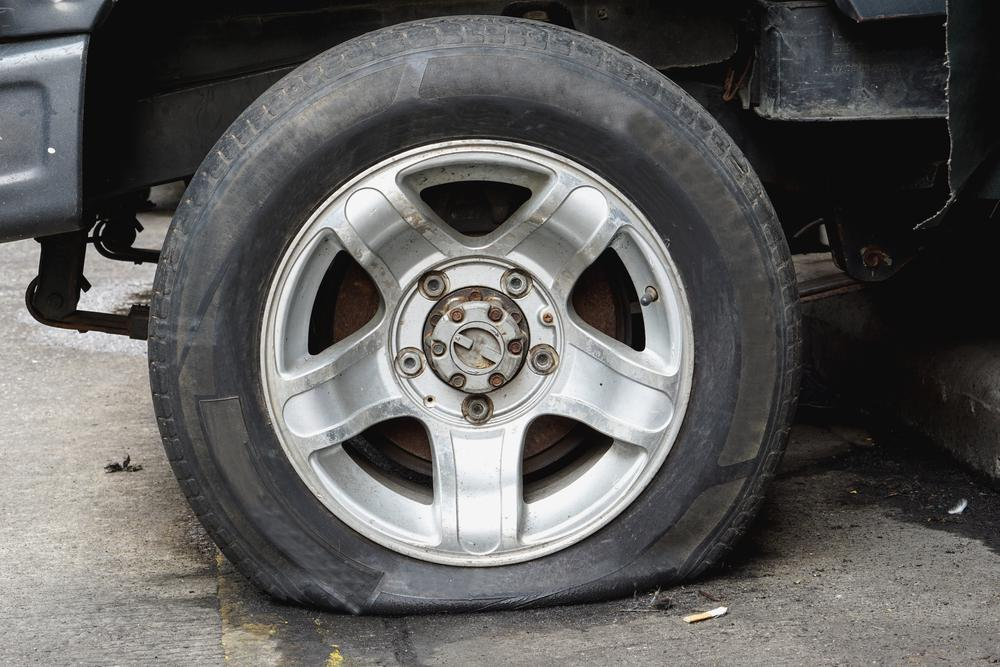tire flat: (147, 16, 809, 618)
